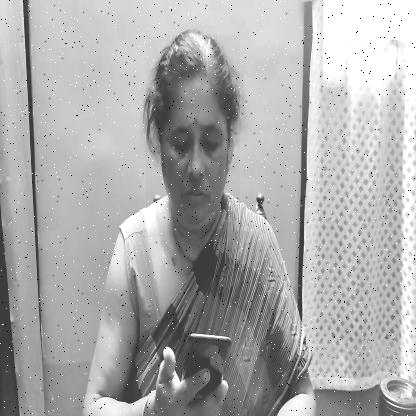Normal: (146, 35, 240, 237)
